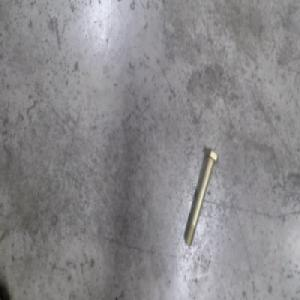Bolt: (183, 147, 219, 248)
